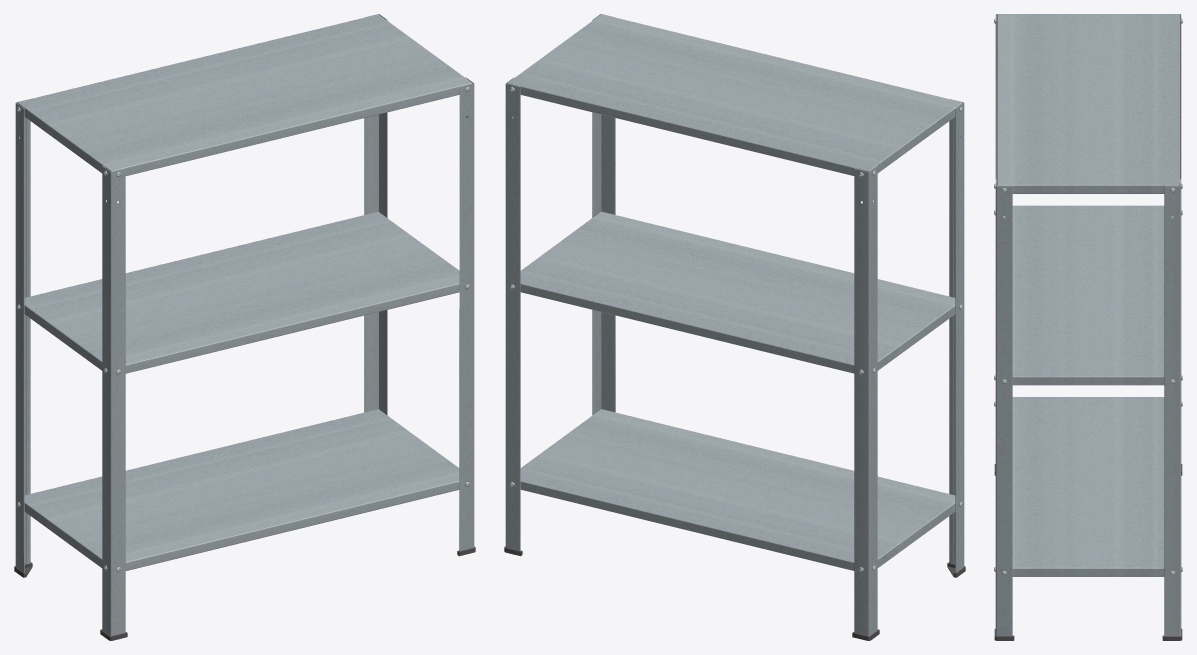
Rendered from HYLLIS_30428326.glb.
3 renders of one model, left to right at view 1: azimuth 30°, elevation 25°; view 2: azimuth 150°, elevation 25°; view 3: azimuth 270°, elevation 25°, orthographic. The views are drawn at different scales.
Visible parts, largest first — view 1: model; view 2: model; view 3: model.
Boxes of the visible parts, <box> form: model: <box>14,14,475,640</box>; model: <box>504,14,965,640</box>; model: <box>994,14,1182,640</box>.
Size of the model in its own units: 0.6064 by 0.74 by 0.2785.
Materials: 1 (1 with a texture image).
